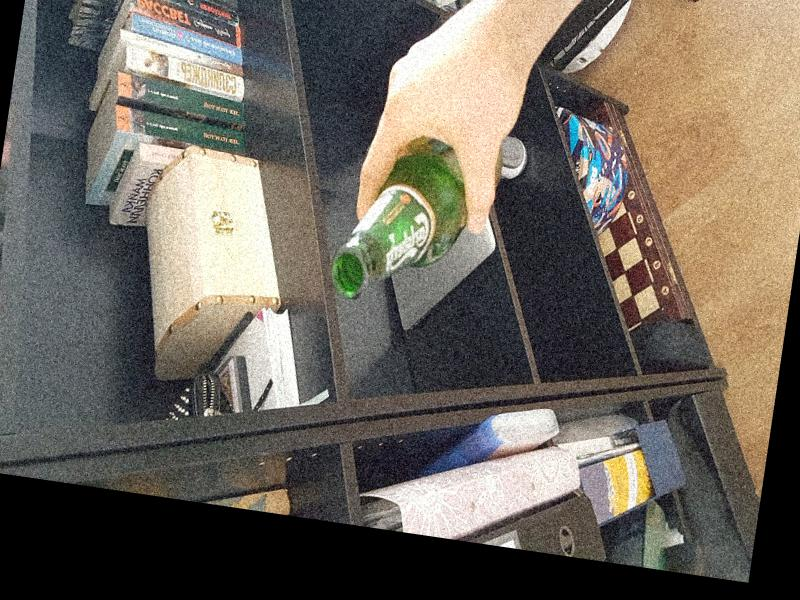Beer: (328, 115, 507, 318)
